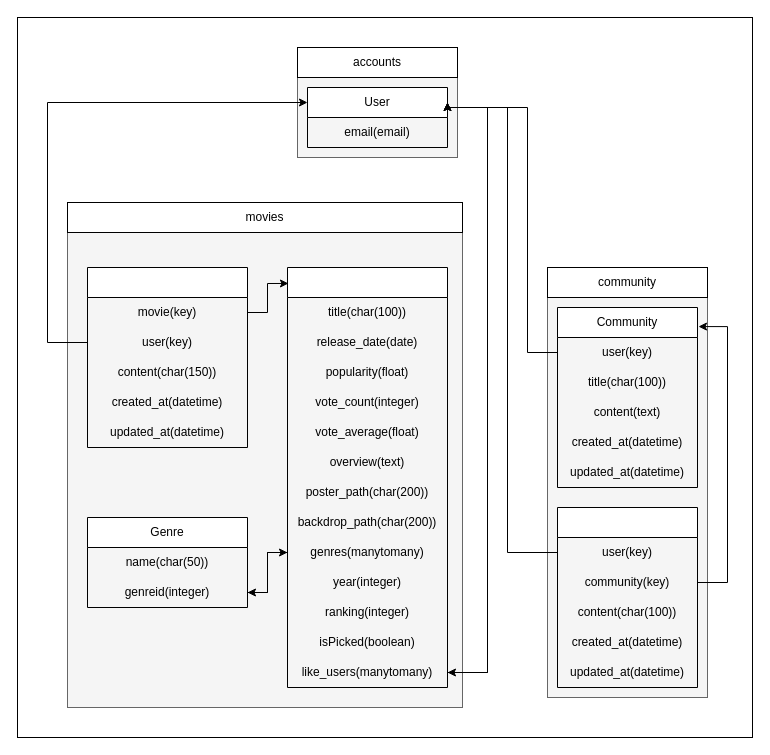
The diagram is 770 pixels wide and 755 high, and some of its shapes have lost their labels. The shapes that lost their labels are listed below. From the top down, each one's box as (x1, y1, x2, y2) in pixels, then its label:
(86, 266, 248, 448): Review
(286, 266, 448, 688): Movie
(556, 506, 698, 688): Comment
